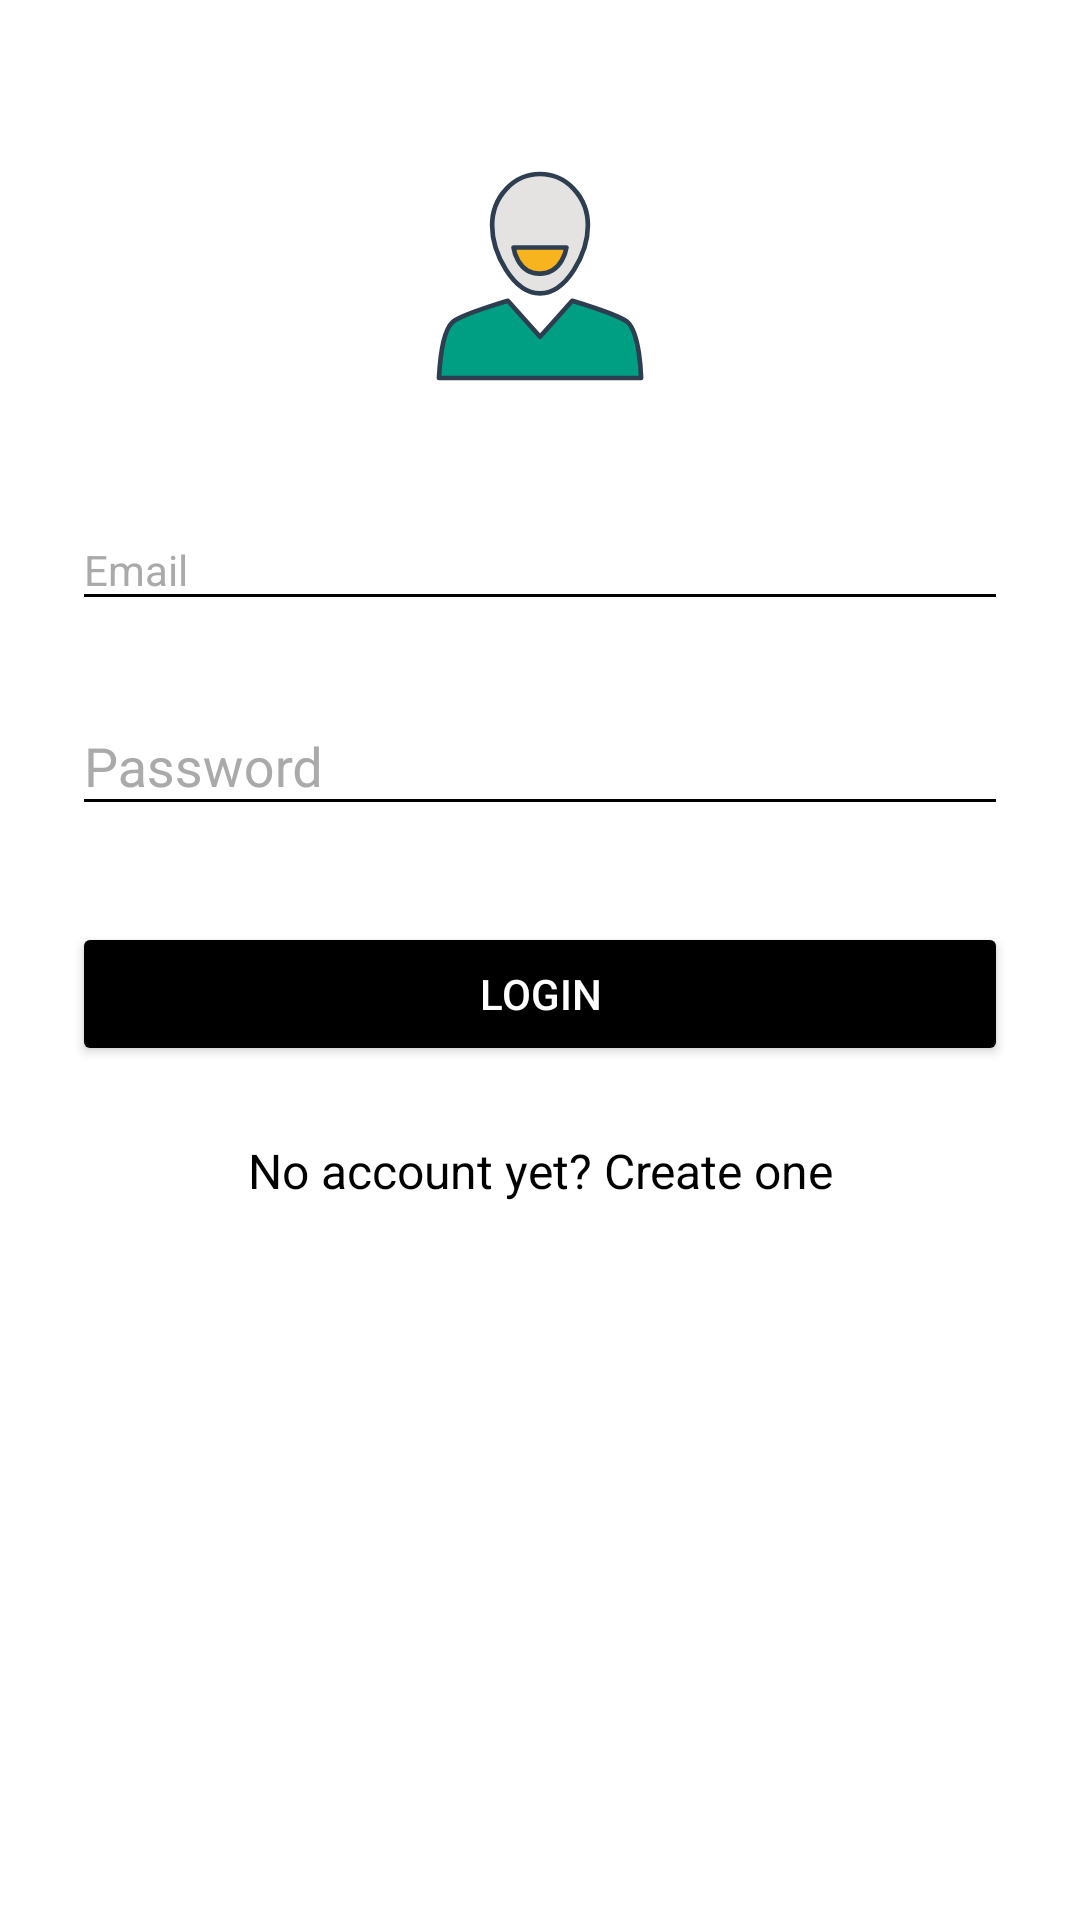

Screen size 1080x1920. Icon name, then its center in pixels as (x=x, y=y):
if client: (x=540, y=276)
